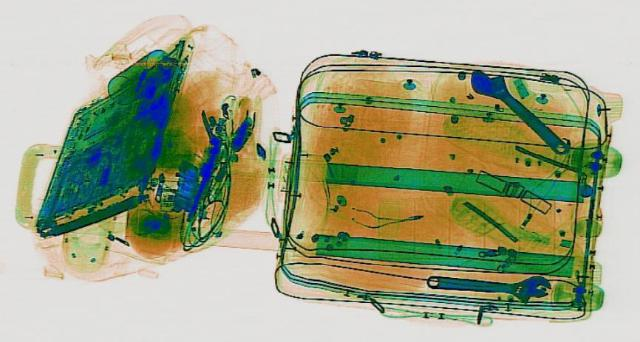Wrench: (454, 65, 584, 156), (422, 268, 554, 297)
